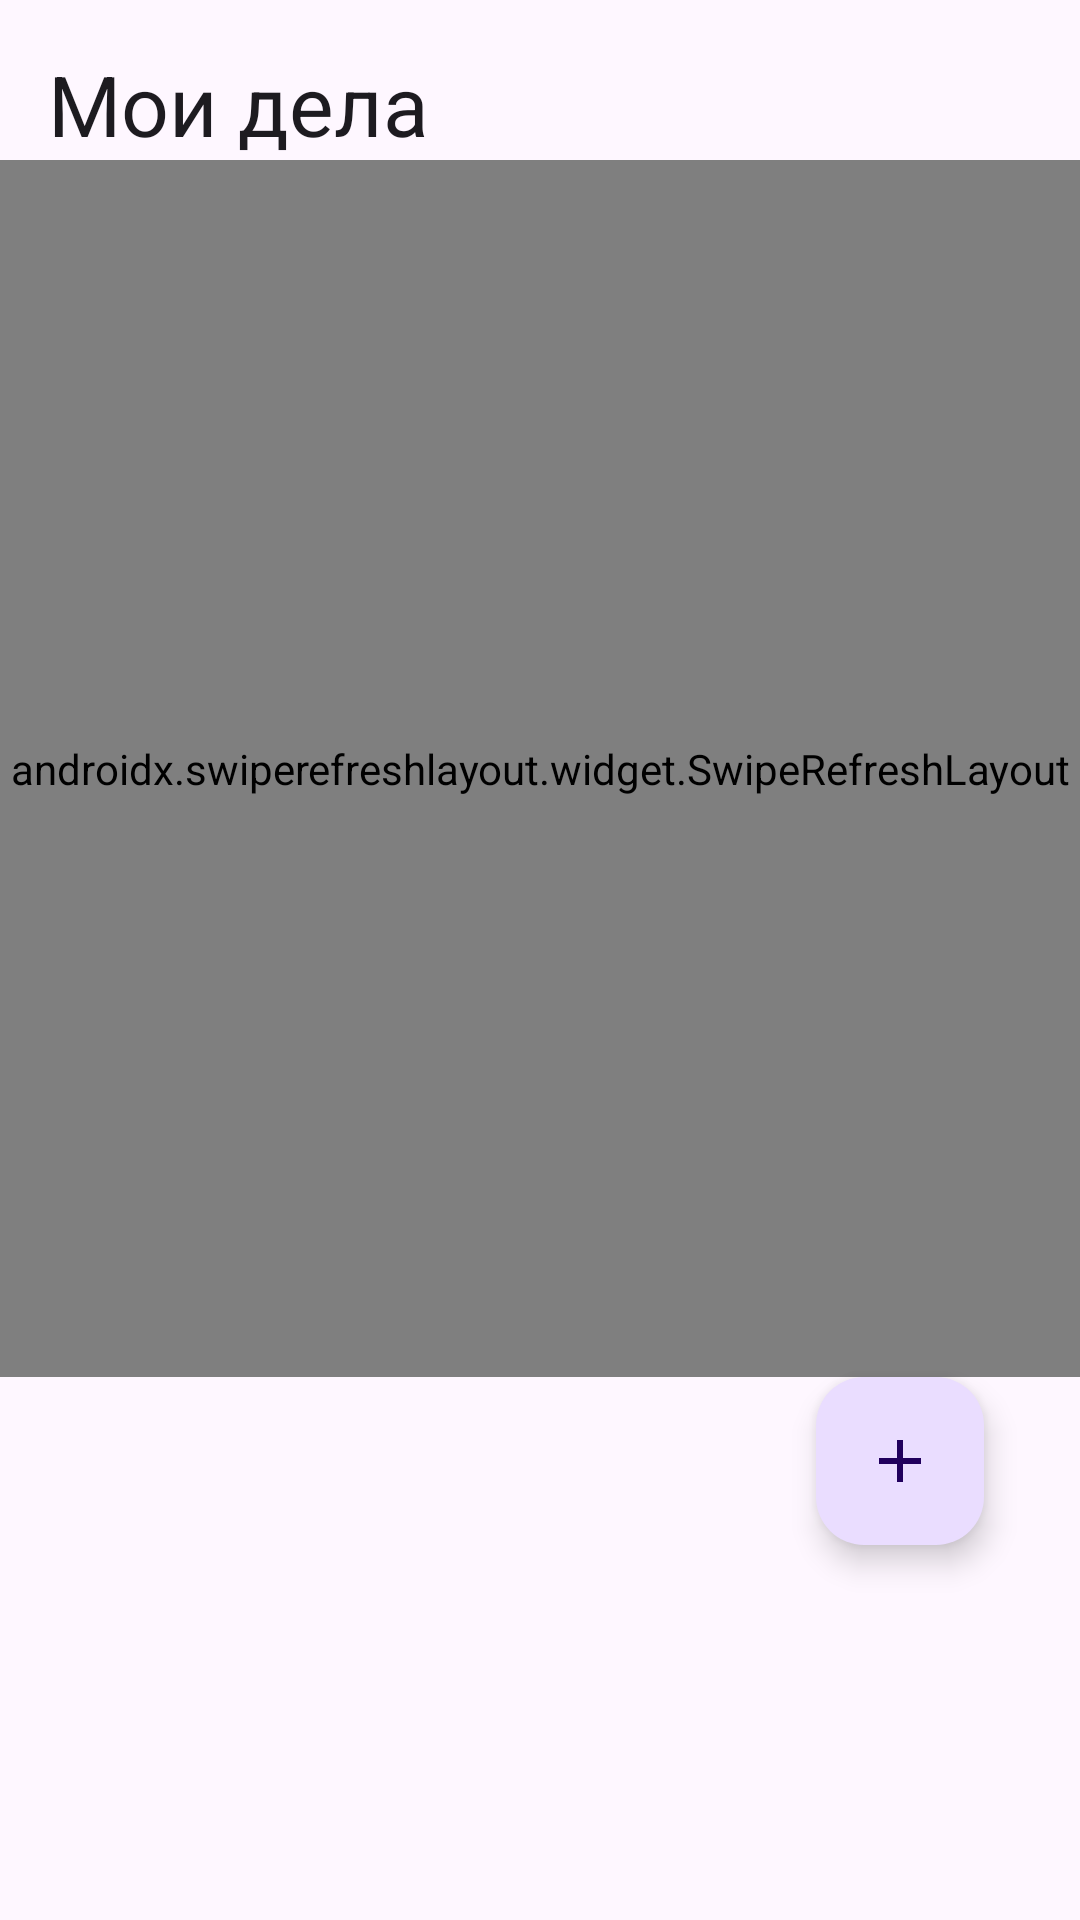

Screen size 1080w x 1920h. Icon name, then its center in pixels as [x,y]:
Добавить дело: [900,1461]
